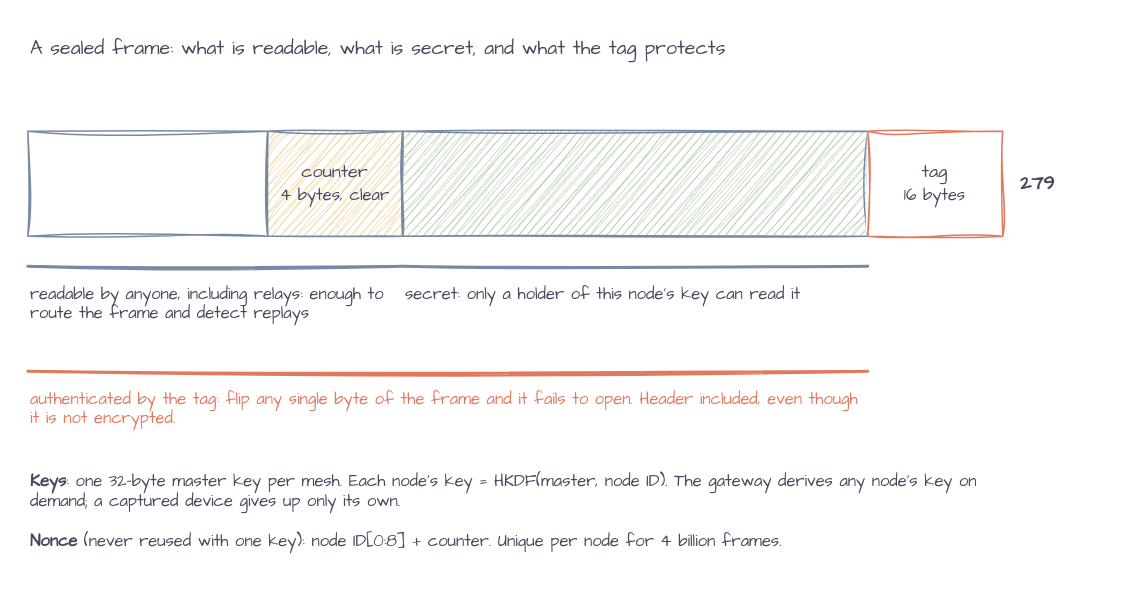
This 1133x591 diagram has some shape labels left out. Each missing label, with the box of its shape:
ciphertext the pruned span, 235 bytes, encrypted looks like random noise: (401, 130, 868, 236)
header 24 bytes, clear Flags bit 2 = sealed: (26, 130, 268, 236)
